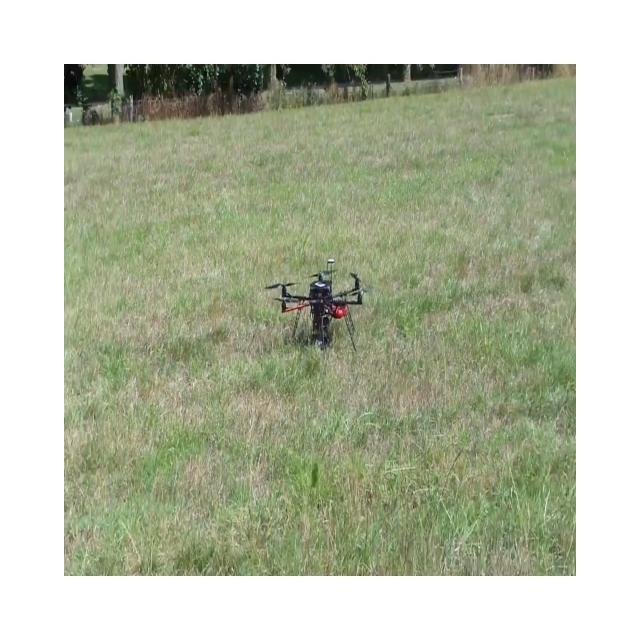drone: (264, 257, 368, 352)
